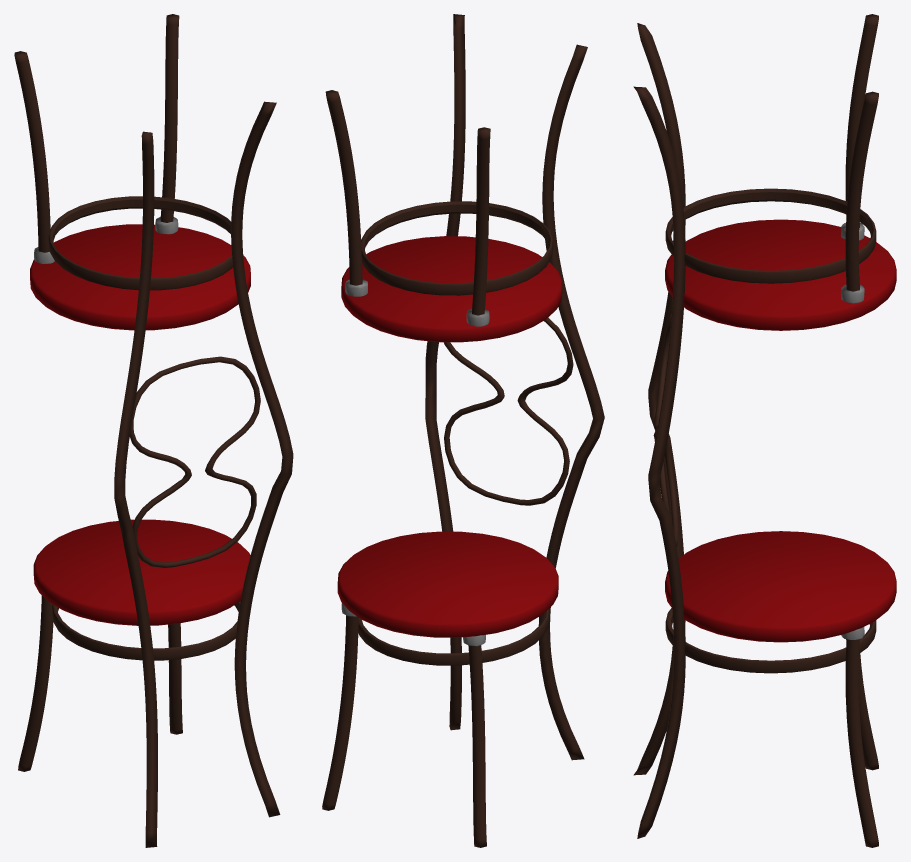
The model's file is sillaDoble.fbx.
3 renders of one model, left to right at view 1: azimuth 30°, elevation 25°; view 2: azimuth 150°, elevation 25°; view 3: azimuth 270°, elevation 25°, orthographic. The views are drawn at different scales.
Visible parts, largest first — view 1: NurbsPath.003, Cylinder.003, Cylinder.006, NurbsPath.008, Cylinder.007, NurbsPath.007, NurbsPath.005, Cylinder.004, Cylinder.008; view 2: Cylinder.003, Cylinder.006, NurbsPath.003, NurbsPath.005, NurbsPath.008, Cylinder.007, NurbsPath.007, Cylinder.004, Cylinder.008; view 3: Cylinder.003, Cylinder.006, NurbsPath.003, Cylinder.007, NurbsPath.008, NurbsPath.005, Cylinder.004, NurbsPath.007.
Part boxes in pixels (box(x1,y1,x2,y2)): NurbsPath.003: box(114, 101, 293, 847); Cylinder.003: box(33, 519, 250, 625); Cylinder.006: box(30, 224, 250, 330); NurbsPath.008: box(14, 14, 179, 252); Cylinder.007: box(48, 196, 232, 290); NurbsPath.007: box(129, 356, 260, 567); NurbsPath.005: box(18, 595, 182, 771); Cylinder.004: box(52, 601, 240, 660); Cylinder.008: box(34, 217, 178, 263); Cylinder.003: box(337, 531, 558, 637); Cylinder.006: box(341, 236, 562, 342); NurbsPath.003: box(425, 14, 604, 760); NurbsPath.005: box(322, 615, 486, 847); NurbsPath.008: box(325, 90, 490, 315); Cylinder.007: box(361, 201, 553, 295); NurbsPath.007: box(444, 317, 573, 505); Cylinder.004: box(358, 609, 549, 665); Cylinder.008: box(345, 279, 489, 326); Cylinder.003: box(665, 531, 896, 642); Cylinder.006: box(665, 219, 896, 330); NurbsPath.003: box(633, 23, 685, 838); Cylinder.007: box(665, 188, 876, 283); NurbsPath.008: box(845, 14, 878, 291); NurbsPath.005: box(845, 639, 878, 847); Cylinder.004: box(665, 608, 876, 673); NurbsPath.007: box(653, 311, 677, 546).
Bounding box in the file's own units: 123 × 429 × 137.
